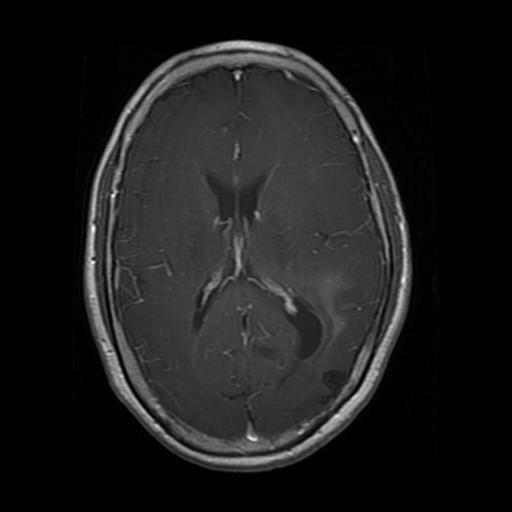Tumour-Glioma: (300, 345, 371, 422)
